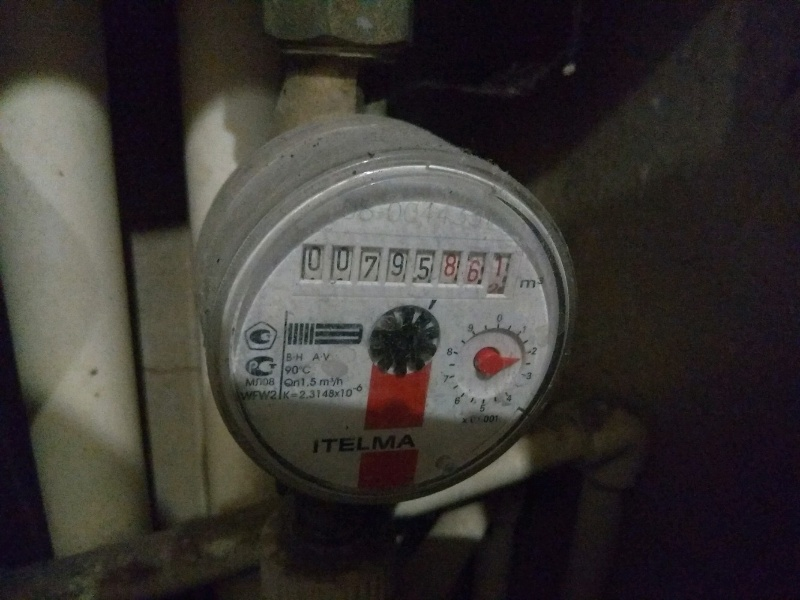meter: (300, 239, 514, 291)
